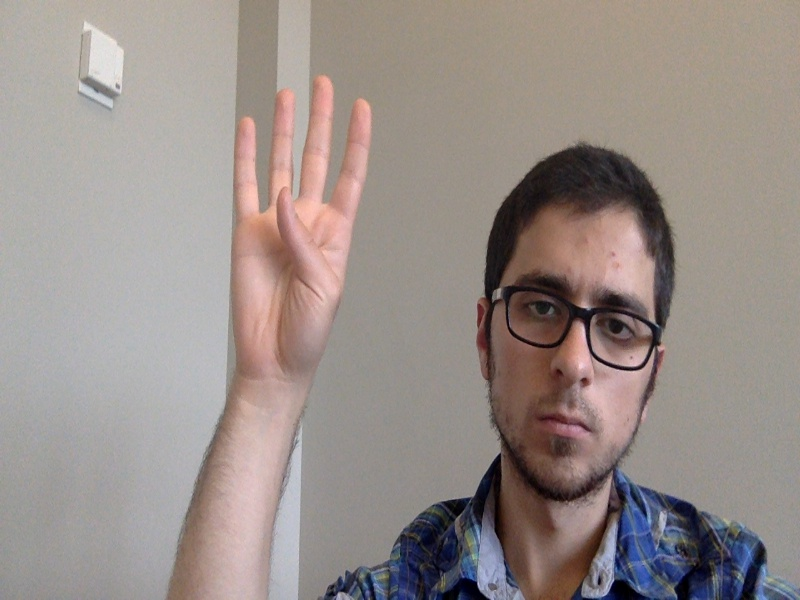4-hand: (230, 74, 373, 387)
